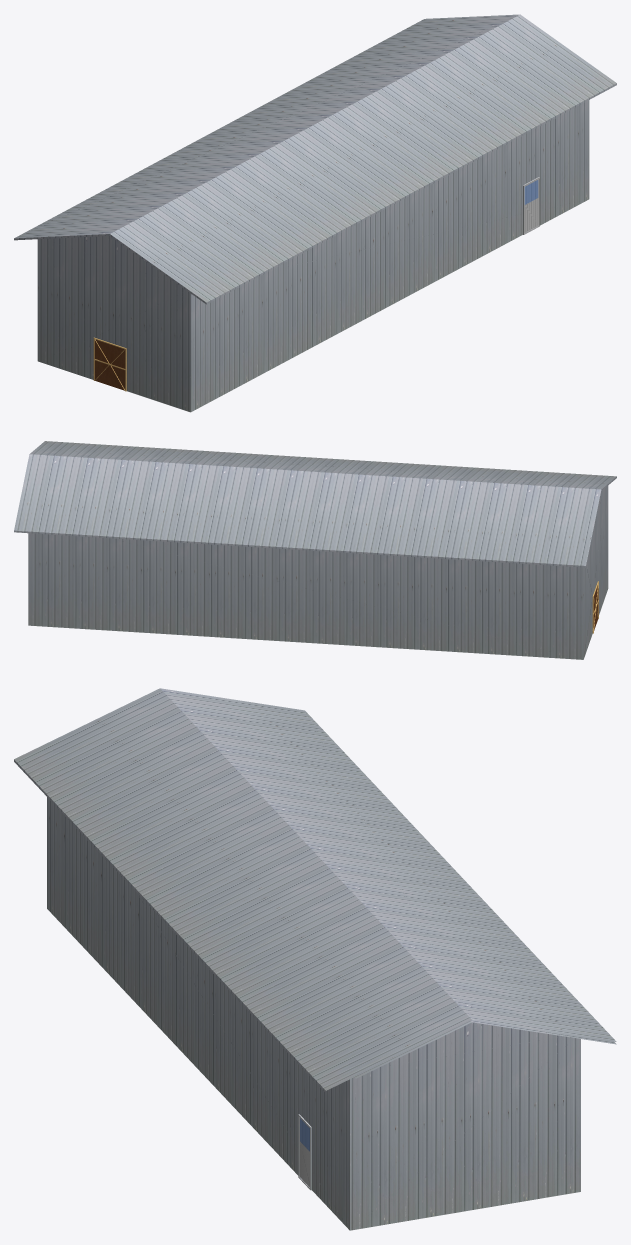
3 views of the same model, one above another, from view 1: azimuth 30°, elevation 25°; view 2: azimuth 150°, elevation 25°; view 3: azimuth 270°, elevation 25° (orthographic). The views are drawn at different scales.
Visible parts, largest first — view 1: 元件#28, 元件#11; view 2: 元件#28; view 3: 元件#28, 元件#11.
Part boxes in pixels (box(x1,y1,x2,y2)): 元件#28: box(14, 14, 616, 412); 元件#11: box(523, 177, 539, 234); 元件#28: box(14, 441, 616, 659); 元件#28: box(14, 688, 616, 1230); 元件#11: box(298, 1114, 311, 1190).
Size of the model in its own units: 32.95 by 7.98 by 22.06.
6 materials, 5 textured.
